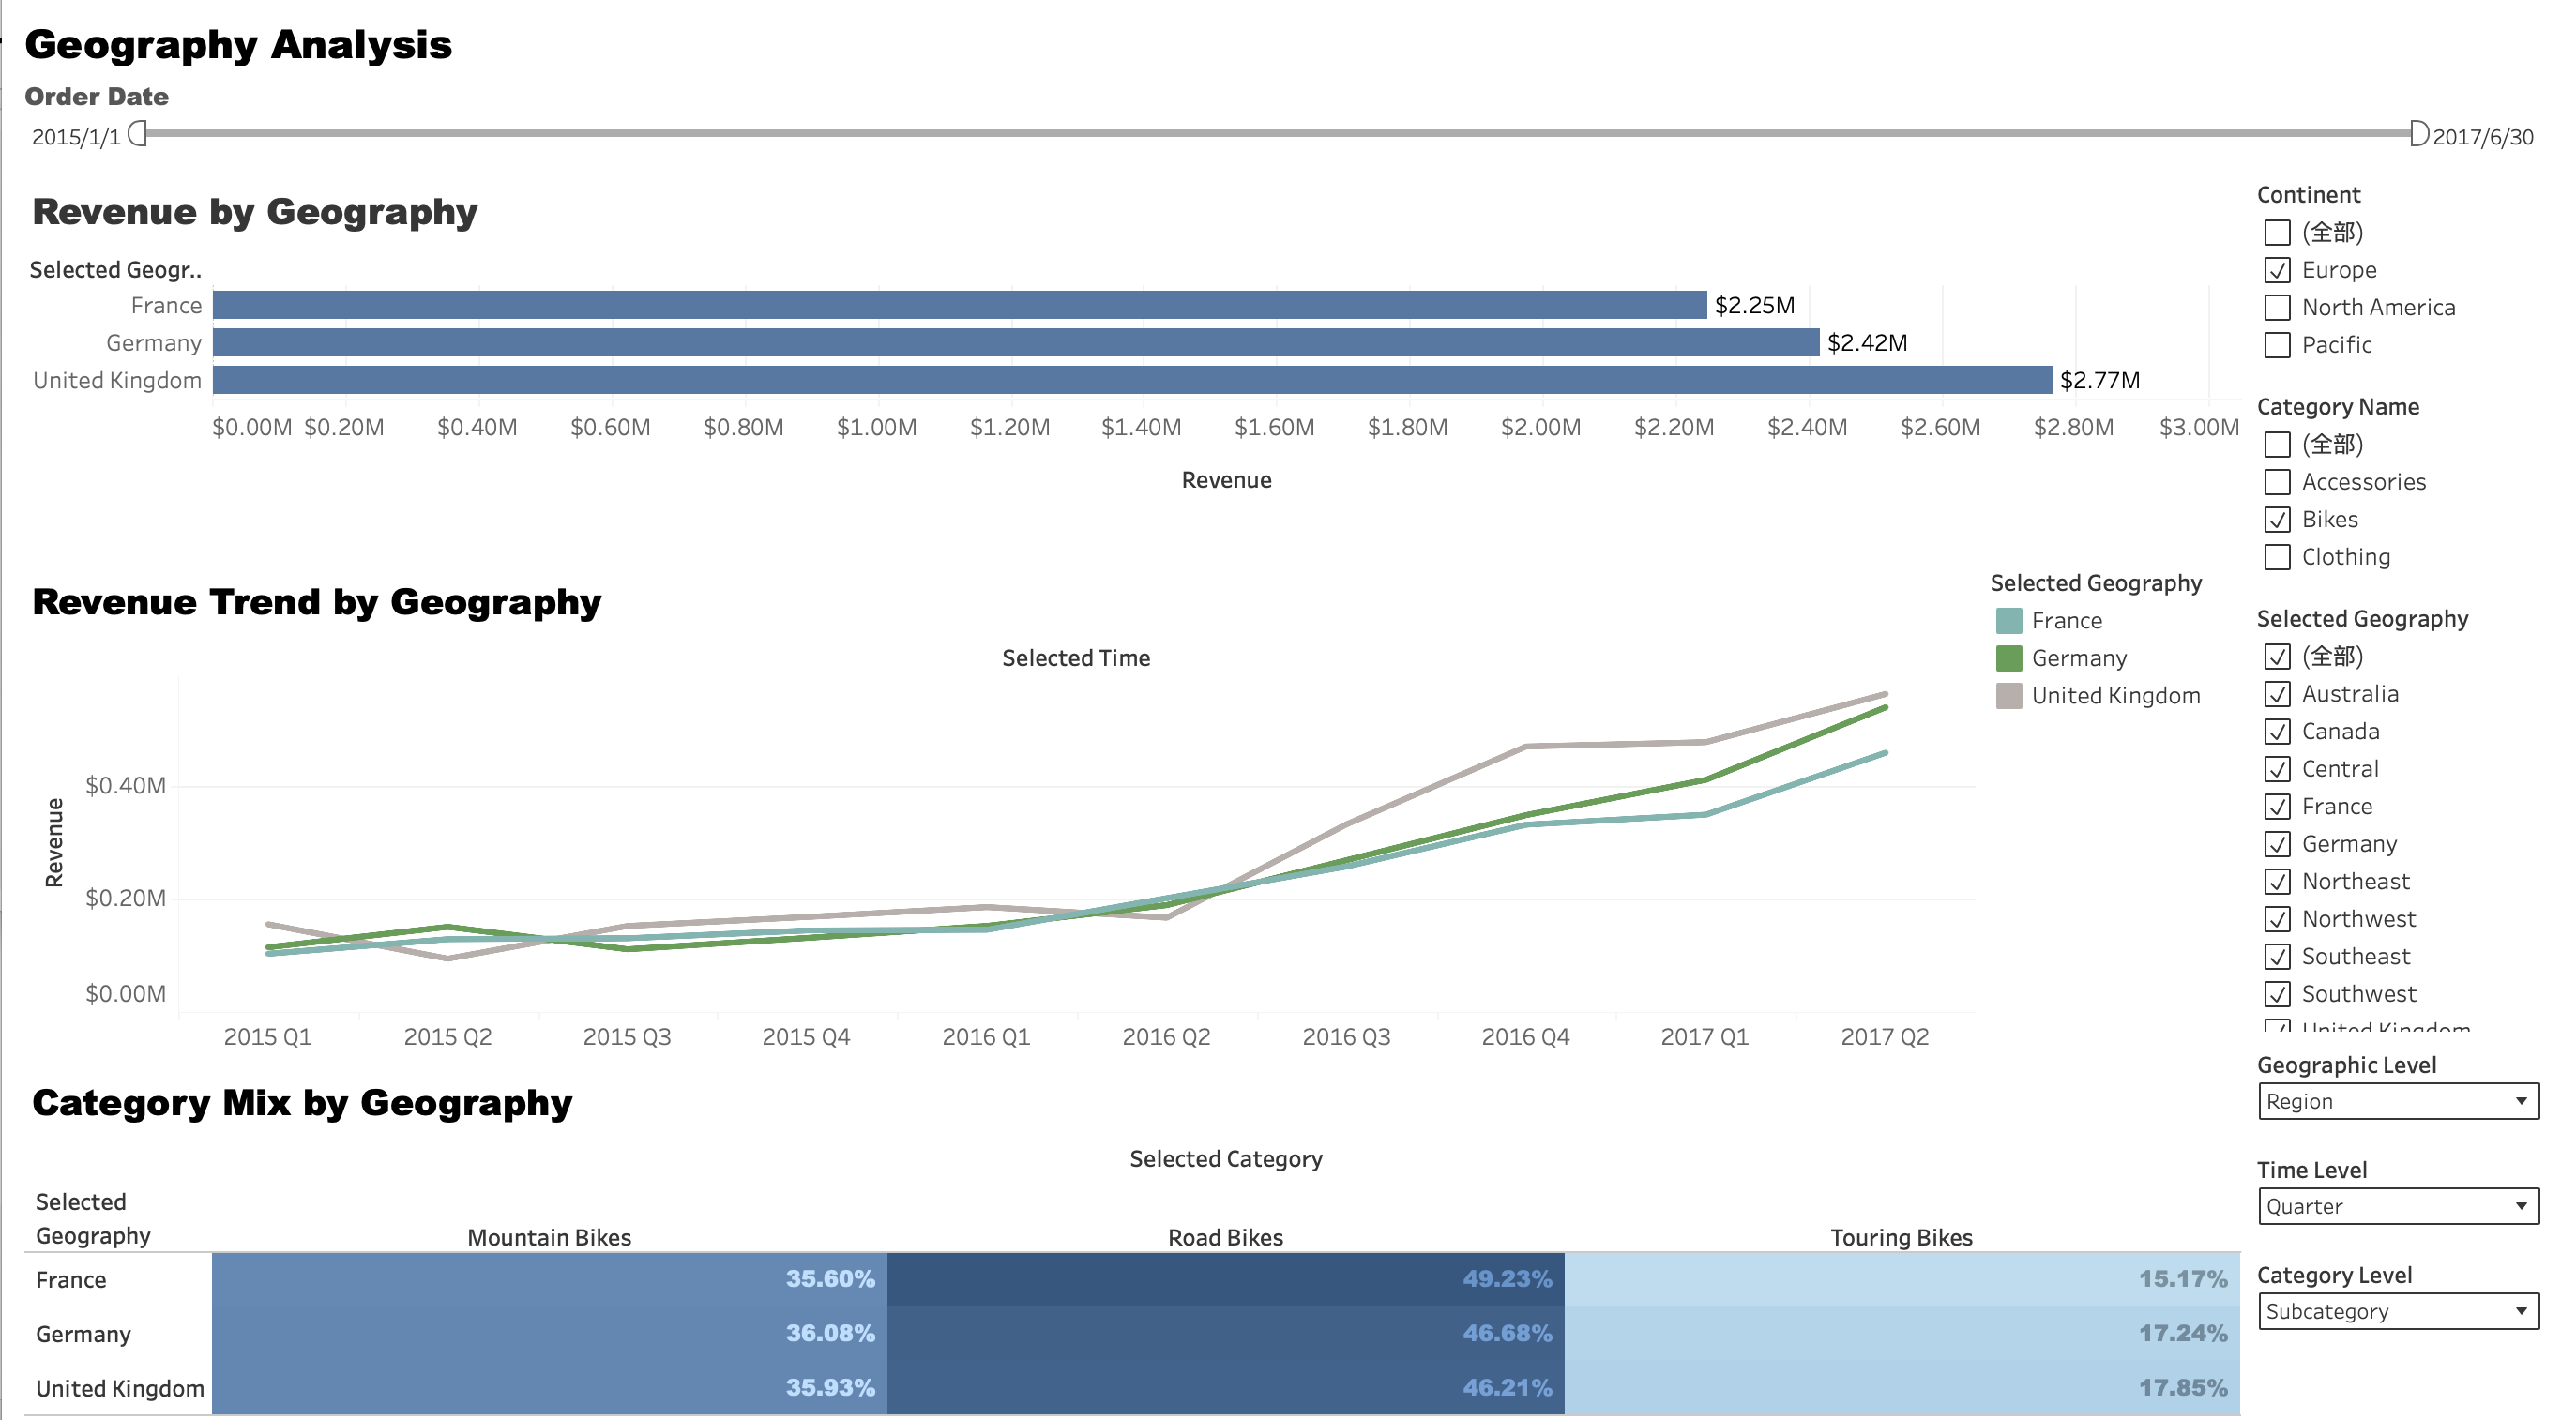

The dashboard page shown, as its layout file describes it:
{"tool":"tableau","page":{"name":"仪表板 2","canvas":[1366,768],"ordinal":1},"visuals":[{"type":"text","box":[8,8,1350,38.4]},{"type":"filter","title":"Revenue by Geography","param":"[federated.0ql3jrk1nxkpmf1cdps7j14f7lm0].[none:OrderDate:qk]","box":[8,46.4,1350,53.4]},{"type":"worksheet","title":"Revenue by Geography","mark":"Automatic","rows":["Calculation_0466003183067139"],"cols":["Revenue"],"box":[8,99.8,1161.1,176.6]},{"type":"filter","title":"Revenue trend","param":"[federated.0ql3jrk1nxkpmf1cdps7j14f7lm0].[none:Continent:nk]","box":[1169.1,99.8,188.9,76.8]},{"type":"filter","title":"category revenue percentage","param":"[federated.0ql3jrk1nxkpmf1cdps7j14f7lm0].[none:CategoryName:nk]","box":[1169.1,176.6,188.9,76.8]},{"type":"filter","title":"Revenue trend","param":"[federated.0ql3jrk1nxkpmf1cdps7j14f7lm0].[none:Calculation_0466003183067139:nk]","box":[1169.1,253.4,188.9,92.2]},{"type":"worksheet","title":"Revenue trend","mark":"Line","rows":["Revenue"],"cols":["Calculation_0466003191762949"],"box":[8,276.5,1065.5,284.2]},{"type":"legend","title":"Revenue trend","param":"[federated.0ql3jrk1nxkpmf1cdps7j14f7lm0].[none:Calculation_0466003183067139:nk]","box":[1073.5,276.5,95.6,284.2]},{"type":"parameter","param":"[Parameters].[参数 0466003182686210]","box":[1169.1,345.6,188.9,57.6]},{"type":"parameter","param":"[Parameters].[参数 0466003191332868]","box":[1169.1,403.2,188.9,57.6]},{"type":"parameter","param":"[Parameters].[参数 0466003215785994]","box":[1169.1,460.8,188.9,57.6]},{"type":"worksheet","title":"category revenue percentage","mark":"Automatic","rows":["Calculation_0466003183067139"],"cols":["Calculation_0466003216265227"],"box":[8,560.6,1161.1,199.4]}]}

Visuals, with their boxes in screenshot pixels (x1, y1, x2, y2), scaled from the page's 1366x768 canvas onto the 2576x1420 screenshot:
text: select_region(15, 15, 2561, 85)
"Revenue by Geography" filter: select_region(15, 85, 2561, 185)
"Revenue by Geography" worksheet: select_region(15, 185, 2205, 511)
"Revenue trend" filter: select_region(2205, 185, 2561, 326)
"category revenue percentage" filter: select_region(2205, 326, 2561, 469)
"Revenue trend" filter: select_region(2205, 469, 2561, 639)
"Revenue trend" worksheet (Line marks): select_region(15, 511, 2024, 1036)
"Revenue trend" legend: select_region(2024, 511, 2205, 1036)
parameter: select_region(2205, 639, 2561, 746)
parameter: select_region(2205, 746, 2561, 852)
parameter: select_region(2205, 852, 2561, 959)
"category revenue percentage" worksheet: select_region(15, 1036, 2205, 1405)
